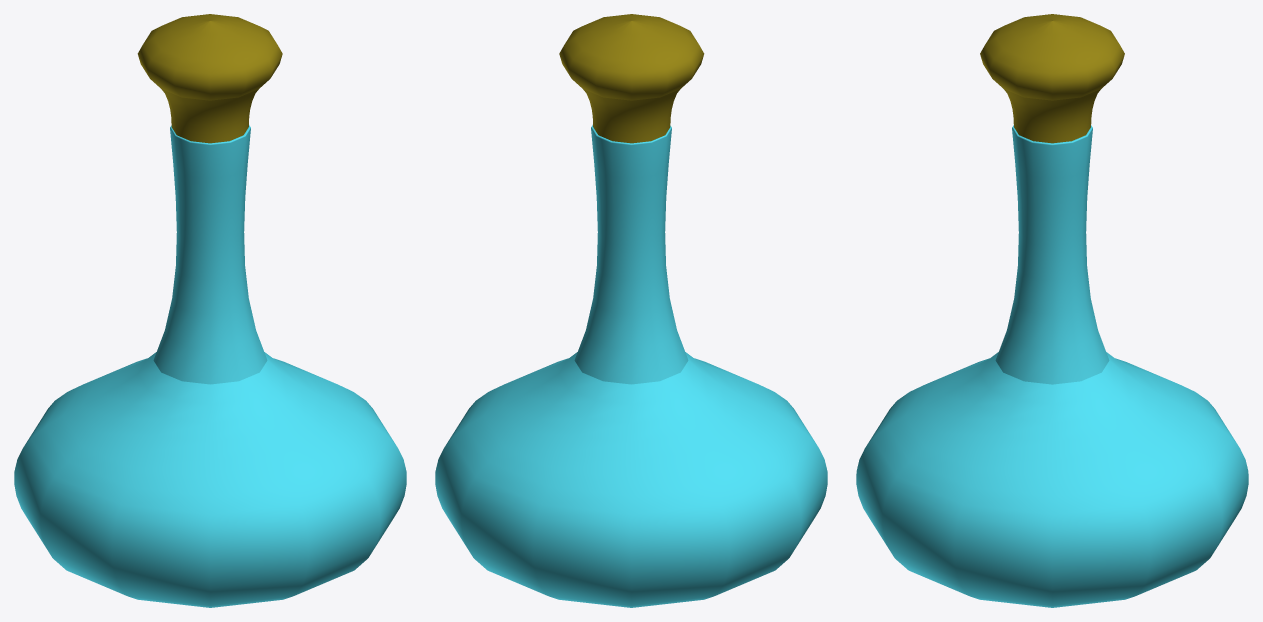
Rendered from potion16.FBX.
3 renders of one model, left to right at view 1: azimuth 30°, elevation 25°; view 2: azimuth 150°, elevation 25°; view 3: azimuth 270°, elevation 25°, orthographic.
Visible parts, largest first — view 1: potion_16glass; view 2: potion_16glass; view 3: potion_16glass.
Part boxes in pixels (x1,y1,x2,y2): potion_16glass: (14, 14, 406, 607); potion_16glass: (435, 14, 827, 607); potion_16glass: (856, 14, 1248, 607).
Bounding box in the file's own units: 31.76 × 48.2 × 31.76.
